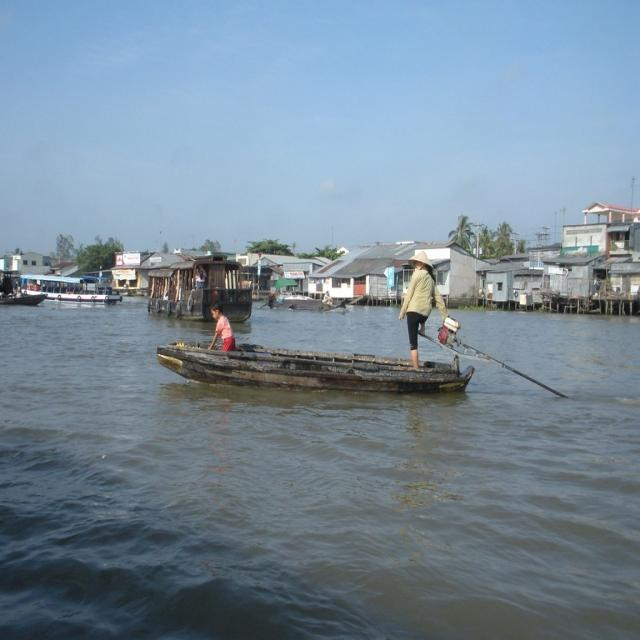Hyacinth: (461, 299, 494, 319)
boat: (151, 342, 475, 398), (143, 258, 260, 322), (22, 272, 126, 307), (0, 271, 46, 317), (263, 290, 340, 316)
